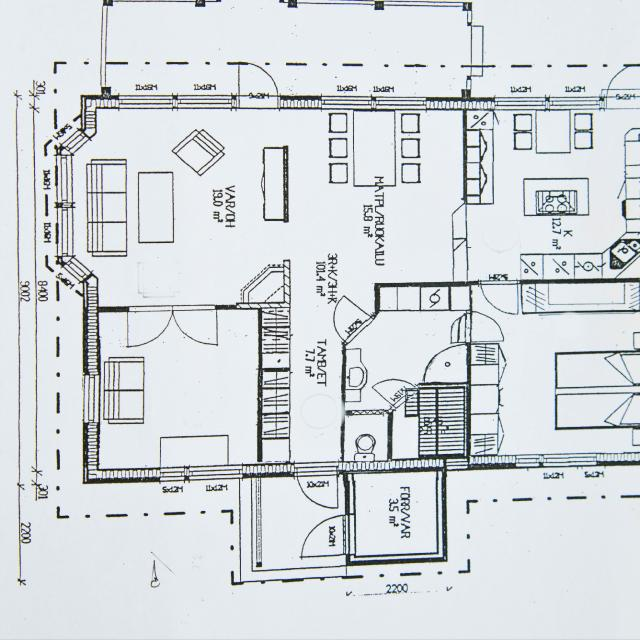door: (316, 296, 374, 345), (299, 515, 356, 554), (172, 305, 218, 349), (296, 462, 337, 510), (128, 305, 172, 349), (371, 367, 418, 408), (238, 61, 278, 108), (606, 62, 640, 108), (480, 282, 518, 318), (469, 312, 507, 341)
